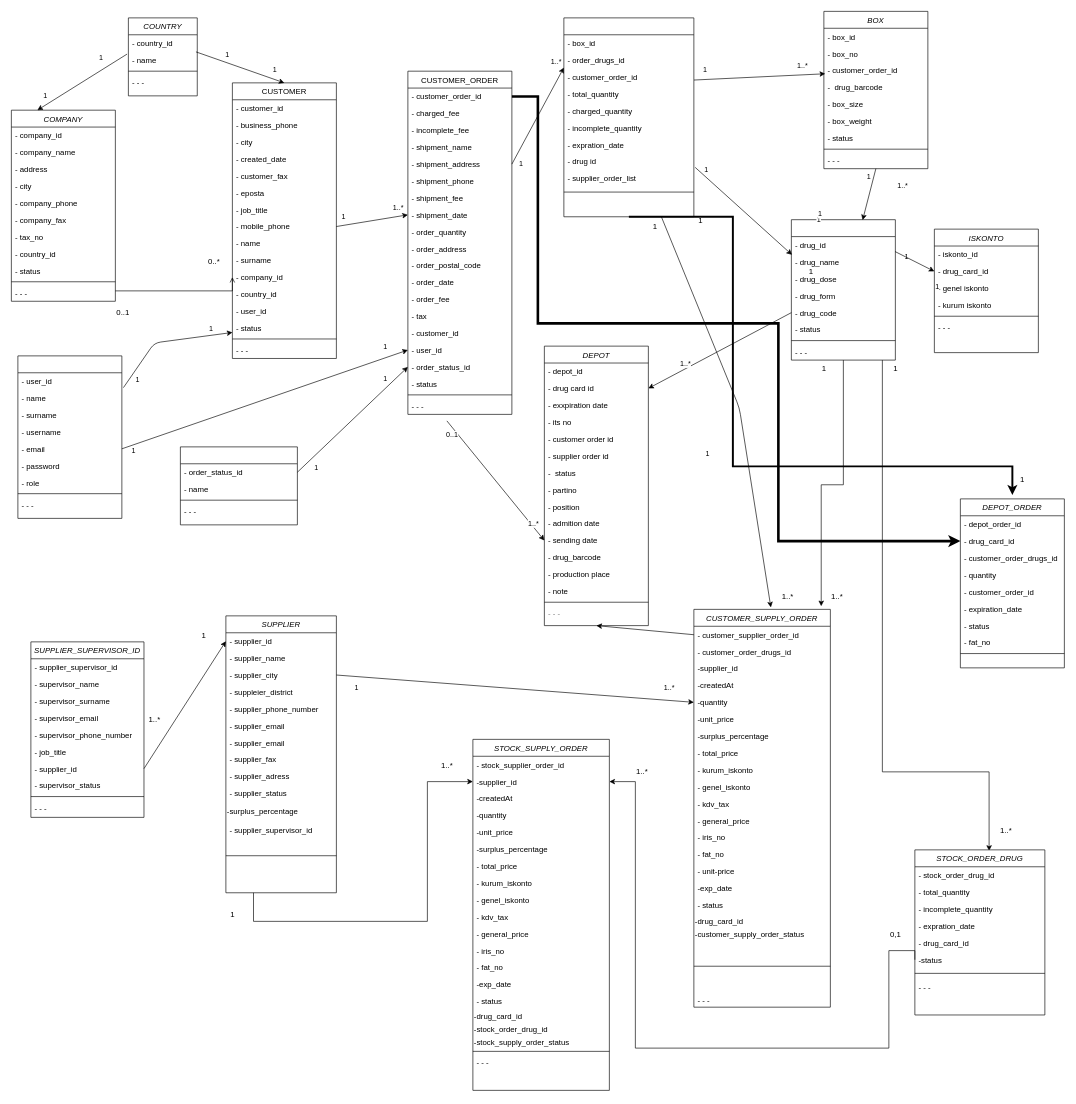
Image size: 1076x1104. Some labels were removed from this diagram. Each missing label, with the box of its shape:
CUSTMER_ORDER_STATUS: (180, 446, 297, 525)
CUSTOMER_ORDER_DRUGS: (563, 17, 694, 217)
DRUG_CARD: (791, 219, 895, 360)
USERS: (17, 355, 122, 518)
